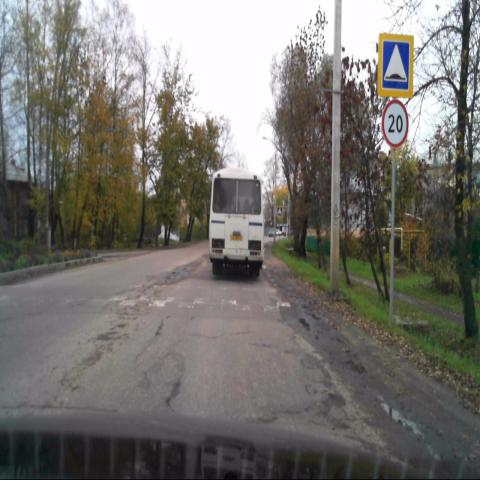3_24: (382, 99, 410, 149)
5_20: (377, 31, 414, 100)
